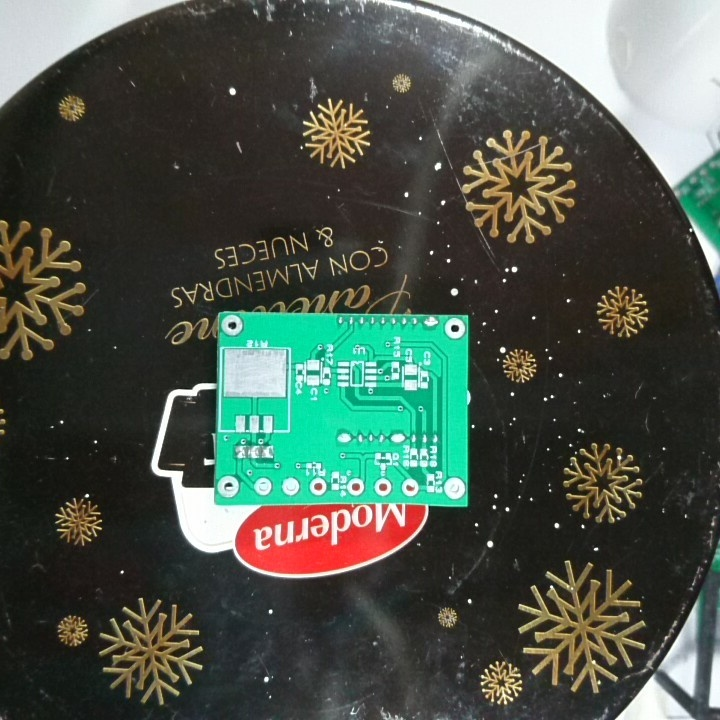F: (220, 312, 245, 340), (442, 475, 466, 500), (217, 473, 240, 499), (444, 317, 466, 342), (251, 475, 274, 498), (279, 475, 301, 499), (371, 476, 394, 498), (345, 476, 367, 498), (308, 474, 328, 498), (399, 477, 421, 498)
P: (388, 429, 408, 446), (420, 314, 441, 330), (334, 430, 354, 446)
